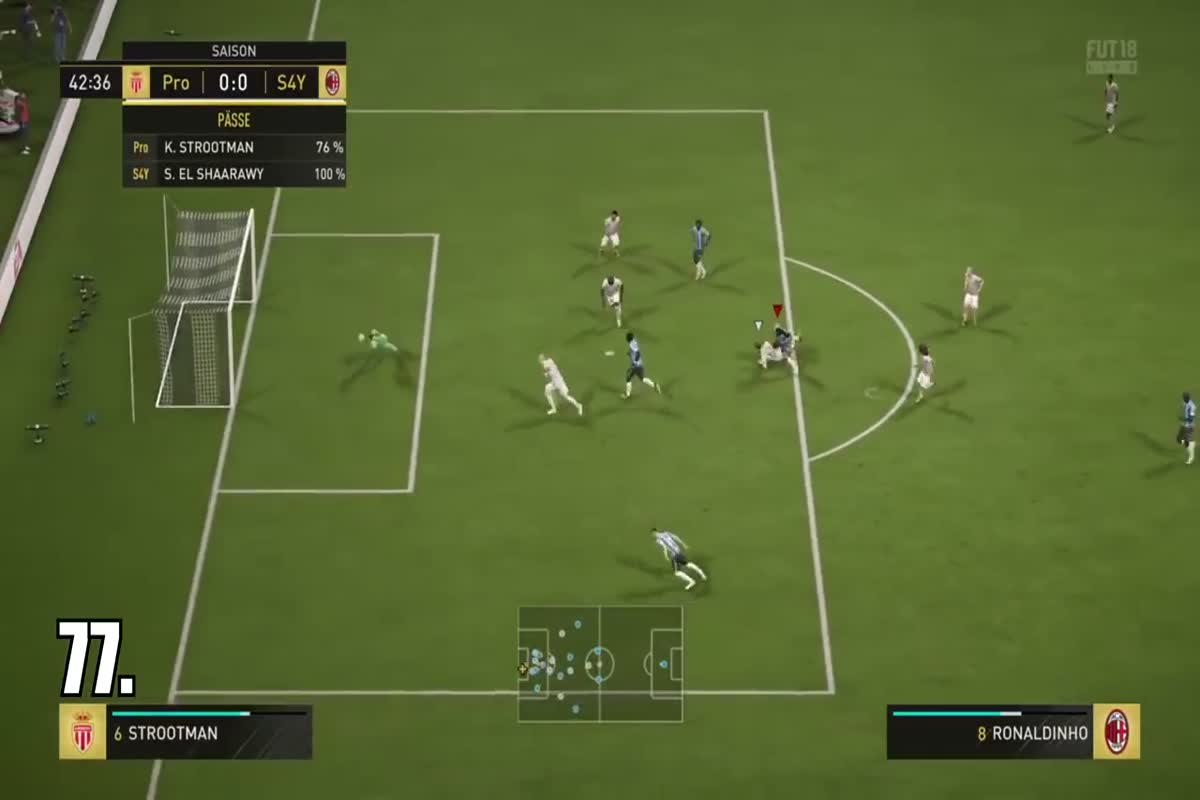ball: (348, 327, 370, 347)
